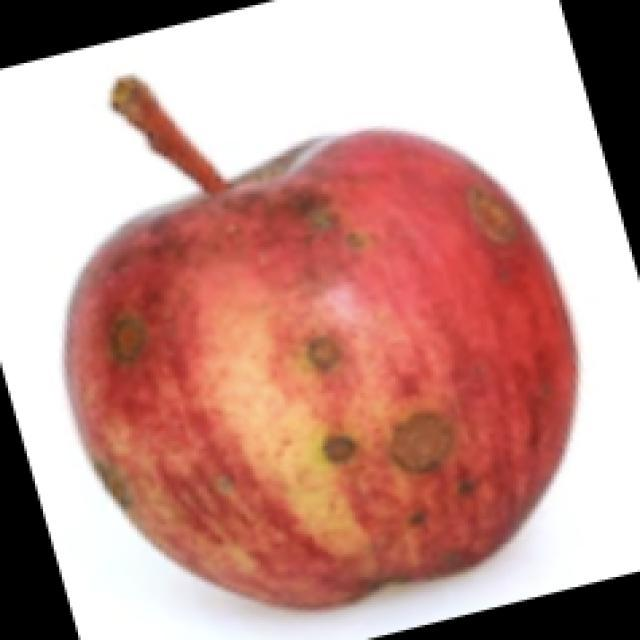apple: (66, 77, 577, 609)
